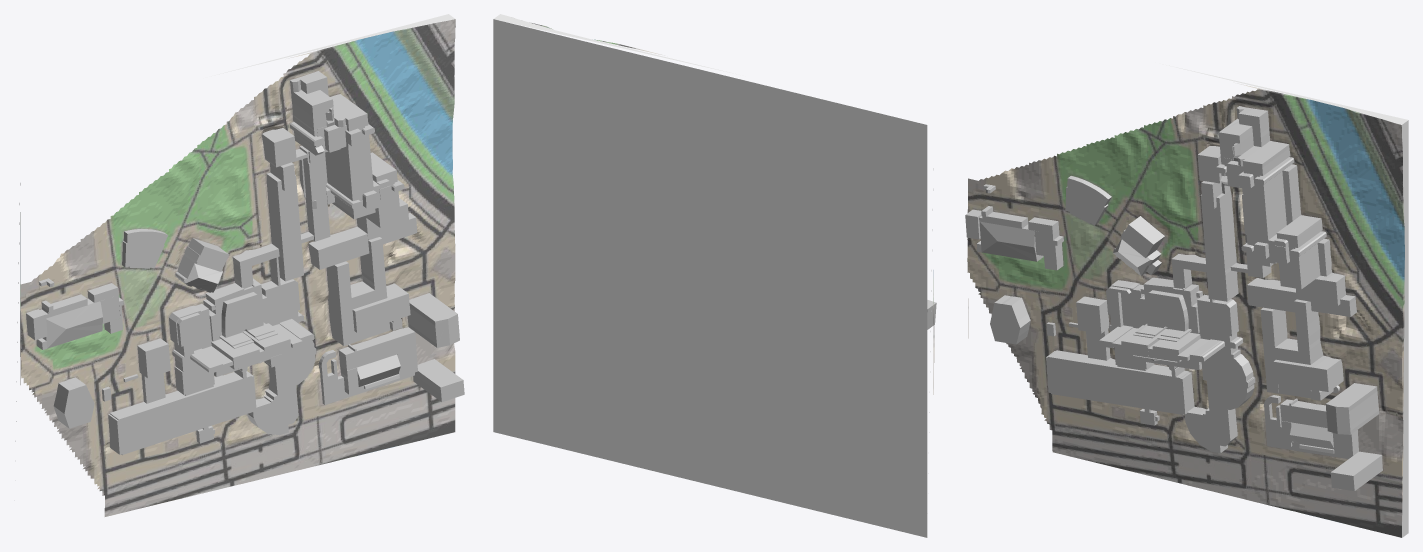
3 renders of one model, left to right at view 1: azimuth 30°, elevation 25°; view 2: azimuth 150°, elevation 25°; view 3: azimuth 330°, elevation 25°, orthographic.
Parts seen in each view (by area): view 1: terrain, buildings; view 2: terrain; view 3: terrain, buildings.
Boxes of the visible parts, x1=… form: terrain: x1=15, y1=14, x2=455, y2=516; buildings: x1=26, y1=71, x2=464, y2=454; terrain: x1=493, y1=14, x2=934, y2=537; terrain: x1=967, y1=64, x2=1408, y2=537; buildings: x1=965, y1=106, x2=1382, y2=490.
Bounding box in the file's own units: 330 × 300 × 49.5.
Materials: 3 (1 with a texture image).
